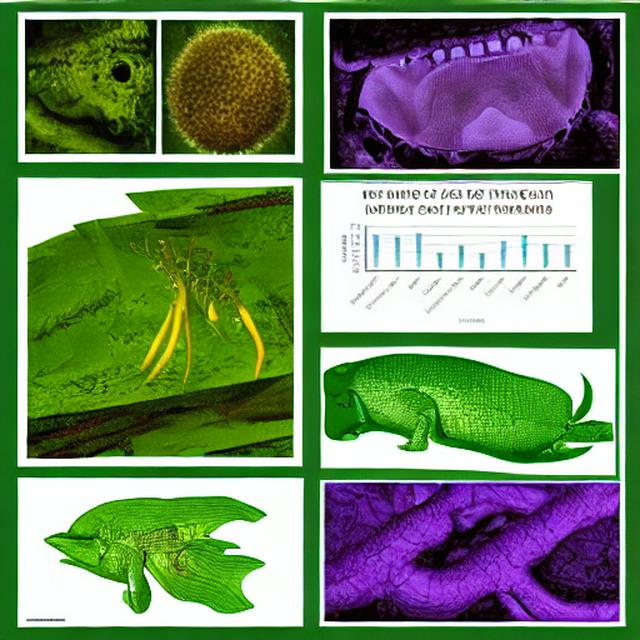Graph: (335, 185, 582, 327)
